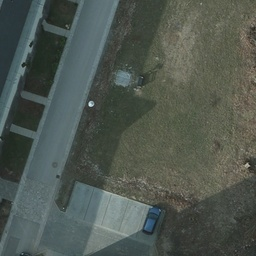car: (140, 205, 158, 236)
